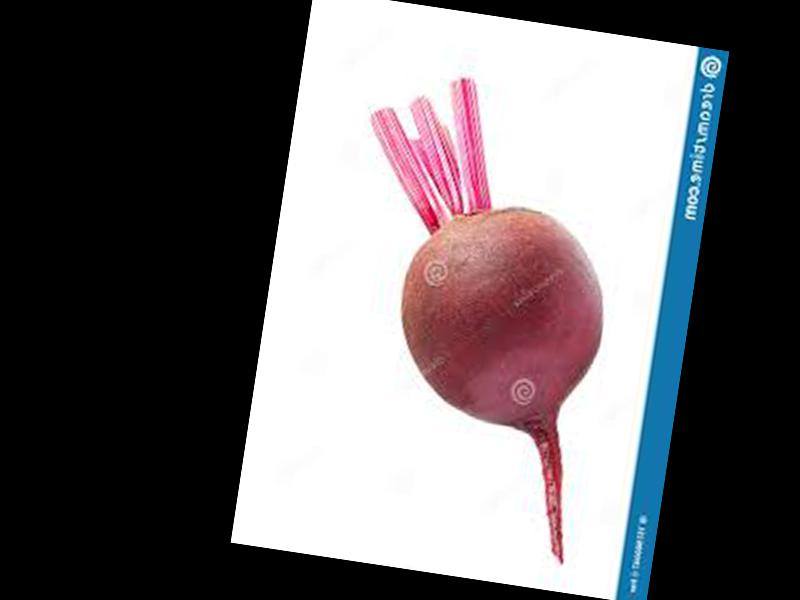Beet: (312, 67, 632, 560)
